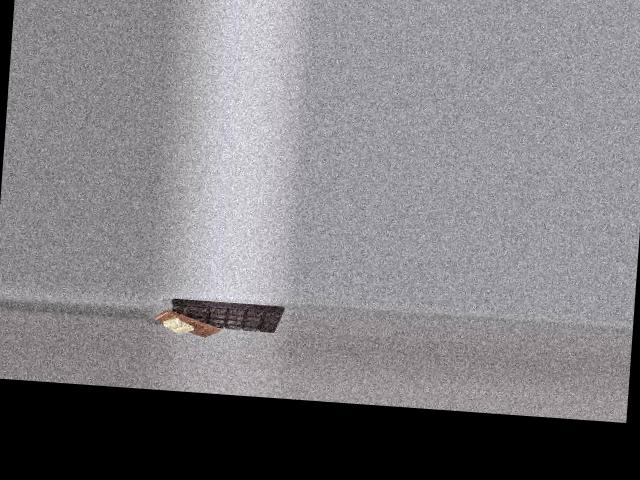chocolate: (163, 294, 285, 337)
